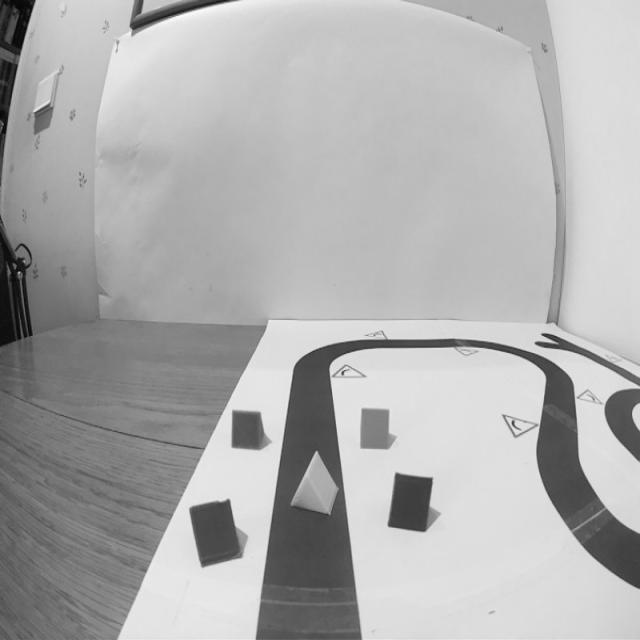lineStraight: (250, 517, 370, 640)
triangle: (186, 498, 243, 567), (287, 447, 342, 518), (383, 466, 435, 533), (357, 402, 394, 456), (229, 404, 267, 454)
